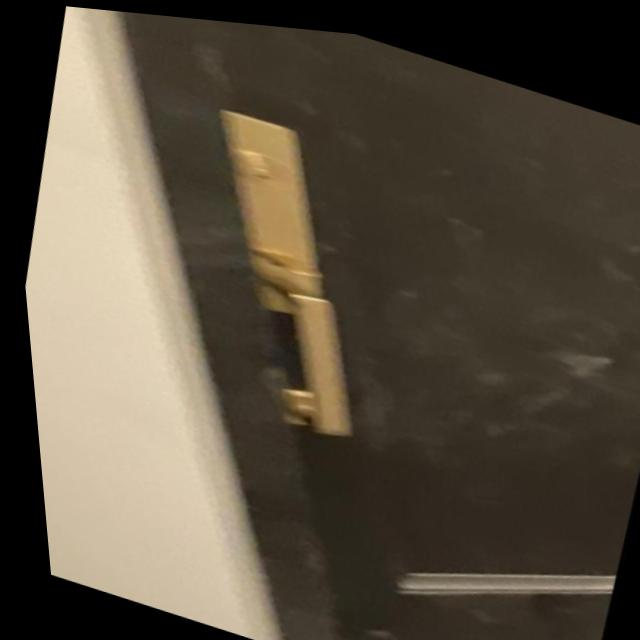door_handle: (215, 255, 406, 450)
